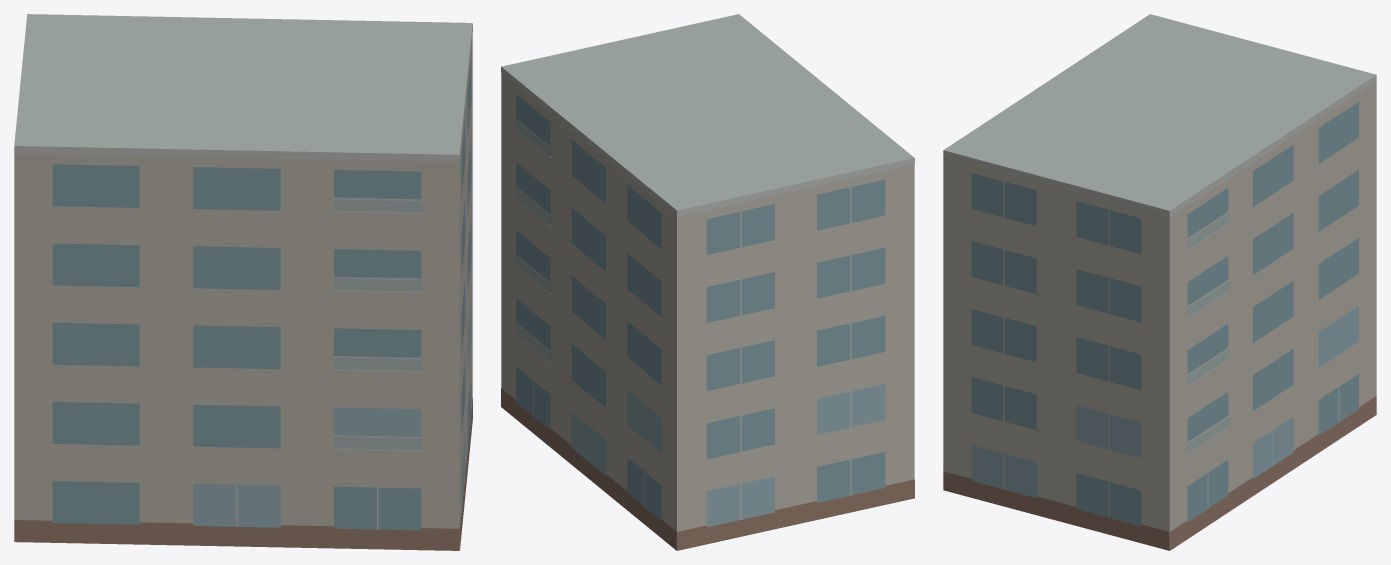
Rendered from survey-upis-32946411.glb.
3 views of the same model, side by side, from view 1: azimuth 30°, elevation 25°; view 2: azimuth 150°, elevation 25°; view 3: azimuth 270°, elevation 25° (orthographic). The views are drawn at different scales.
Parts seen in each view (by area): view 1: survey-upis-32946411.tmp; view 2: survey-upis-32946411.tmp; view 3: survey-upis-32946411.tmp.
Boxes of the visible parts, bbox=[...] form: survey-upis-32946411.tmp: bbox=[14, 14, 472, 550]; survey-upis-32946411.tmp: bbox=[501, 14, 914, 550]; survey-upis-32946411.tmp: bbox=[943, 14, 1376, 550].
Size of the model in its own units: 16.4 by 13.2 by 15.26.
